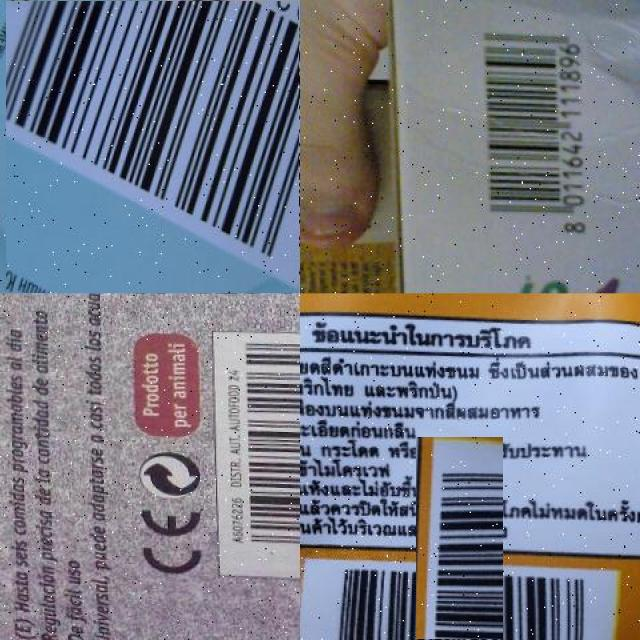Barcode: (6, 0, 299, 293), (358, 494, 561, 640), (476, 20, 604, 233), (221, 325, 300, 576)
